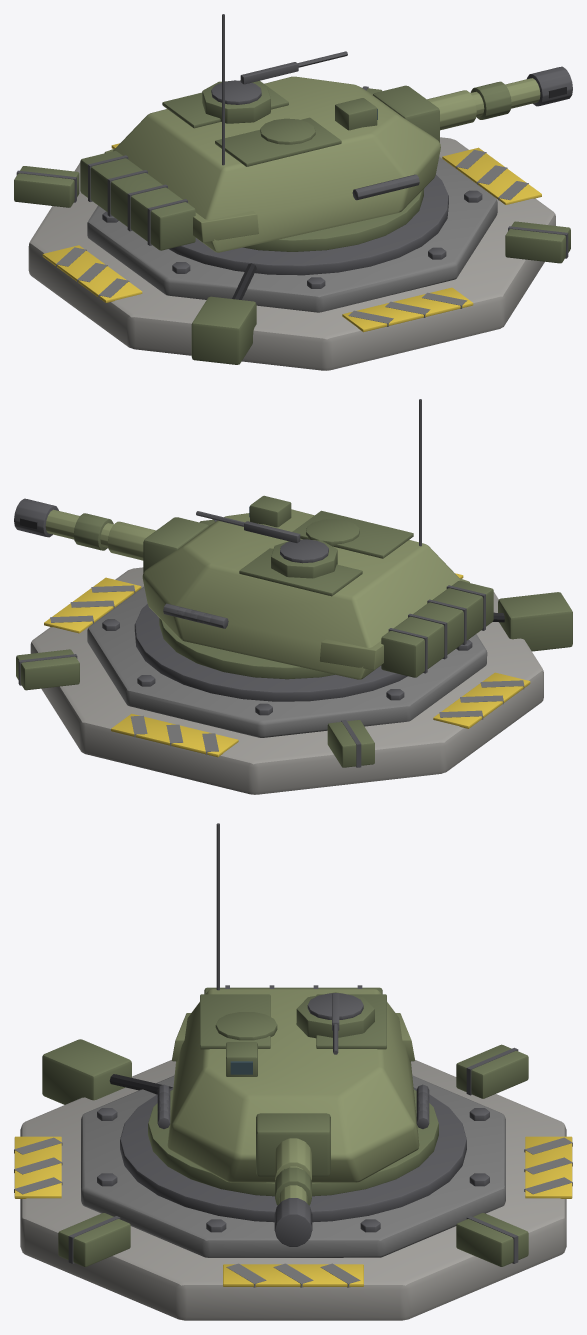
Rendered from tower_basic.glb.
3 renders of one model, top to bottom at view 1: azimuth 30°, elevation 25°; view 2: azimuth 150°, elevation 25°; view 3: azimuth 270°, elevation 25°, orthographic. The views are drawn at different scales.
Parts seen in each view (by area): view 1: base, turret, barrel; view 2: base, turret, barrel; view 3: base, turret, barrel.
Boxes of the visible parts, x1,y1,x2,y2 form: base: (14,86,570,370); turret: (80,14,440,252); barrel: (373,66,572,142); base: (16,519,572,794); turret: (142,399,493,679); barrel: (14,498,208,572); base: (14,1039,572,1320); turret: (148,823,438,1196); barrel: (256,1113,330,1246).
Size of the model in its own units: 6.69 by 3.86 by 5.96.
